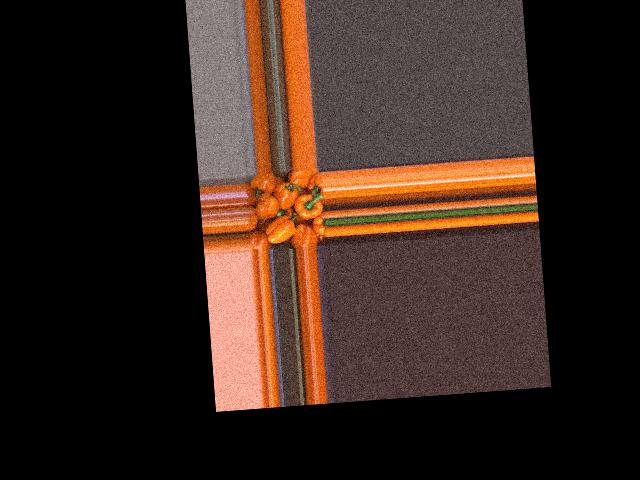bell_pepper: (244, 180, 263, 211)
